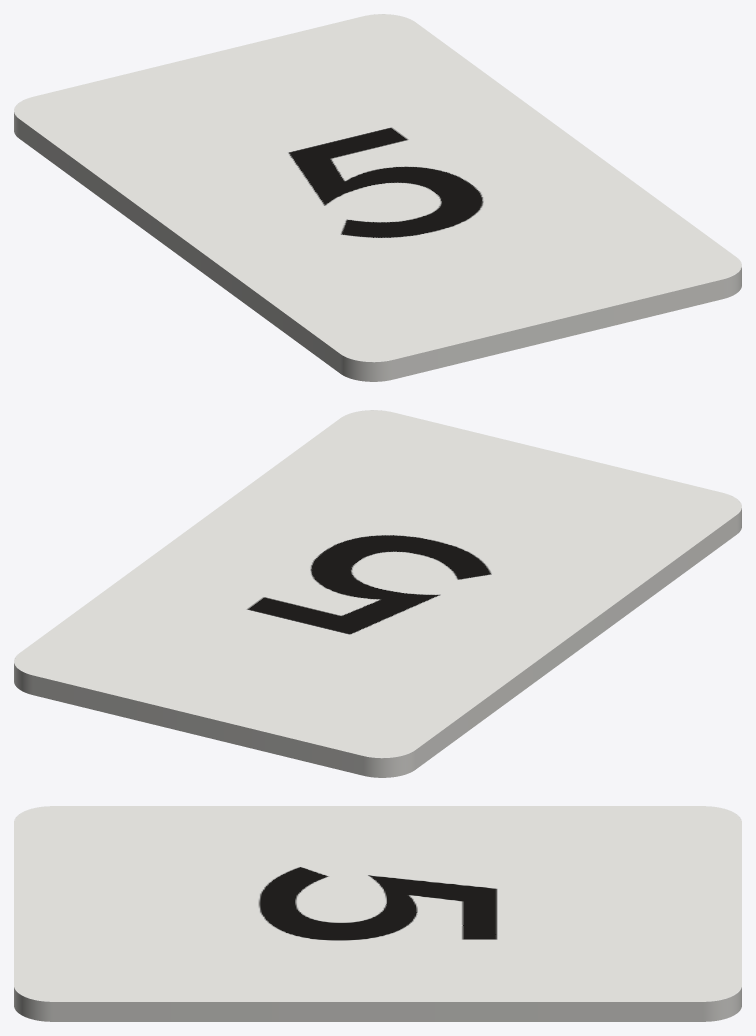
File: white_5.glb
3 views of the same model, one above another, from view 1: azimuth 30°, elevation 25°; view 2: azimuth 150°, elevation 25°; view 3: azimuth 270°, elevation 25° (orthographic).
Visible parts, largest first — view 1: white_5; view 2: white_5; view 3: white_5.
Part boxes in pixels (x1,y1,x2,y2): white_5: (14,14,741,381); white_5: (14,410,741,777); white_5: (14,806,741,1021).
Size of the model in its own units: 0.042 by 0.002 by 0.066.
2 materials, 1 textured.
